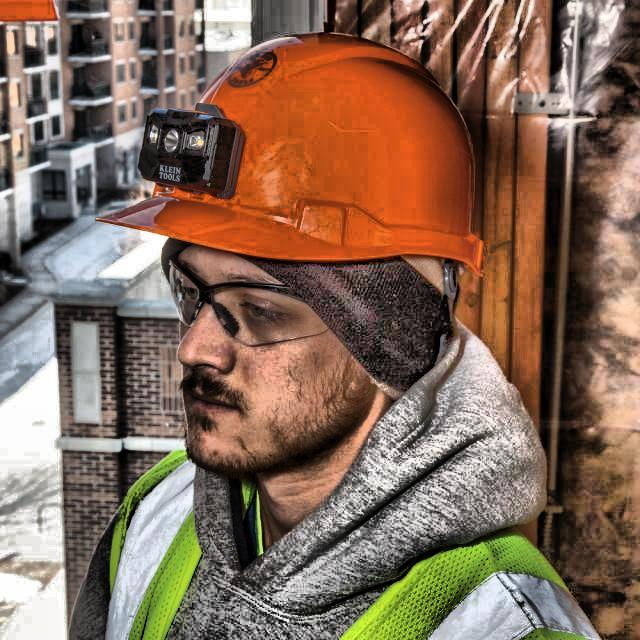person: (108, 17, 582, 640)
